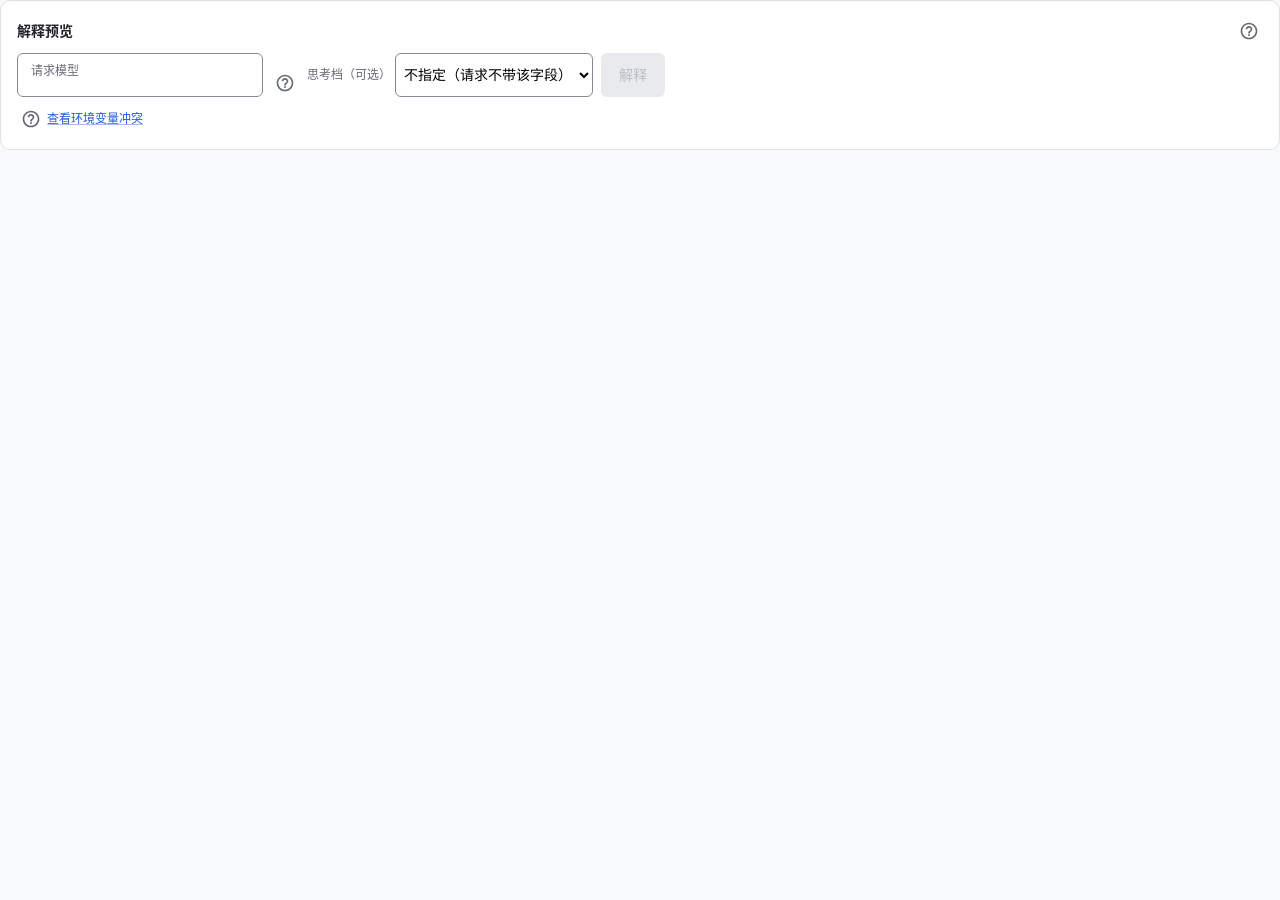
Test: RouteExplainPanel（UC-096） › 拒绝响应清楚区分未产出和未改写；端点缺席、空出站模型和空版本如实呈现
Type "missing-entry" into the field labelled "请求模型" at (140, 75), box [17, 56, 263, 94]
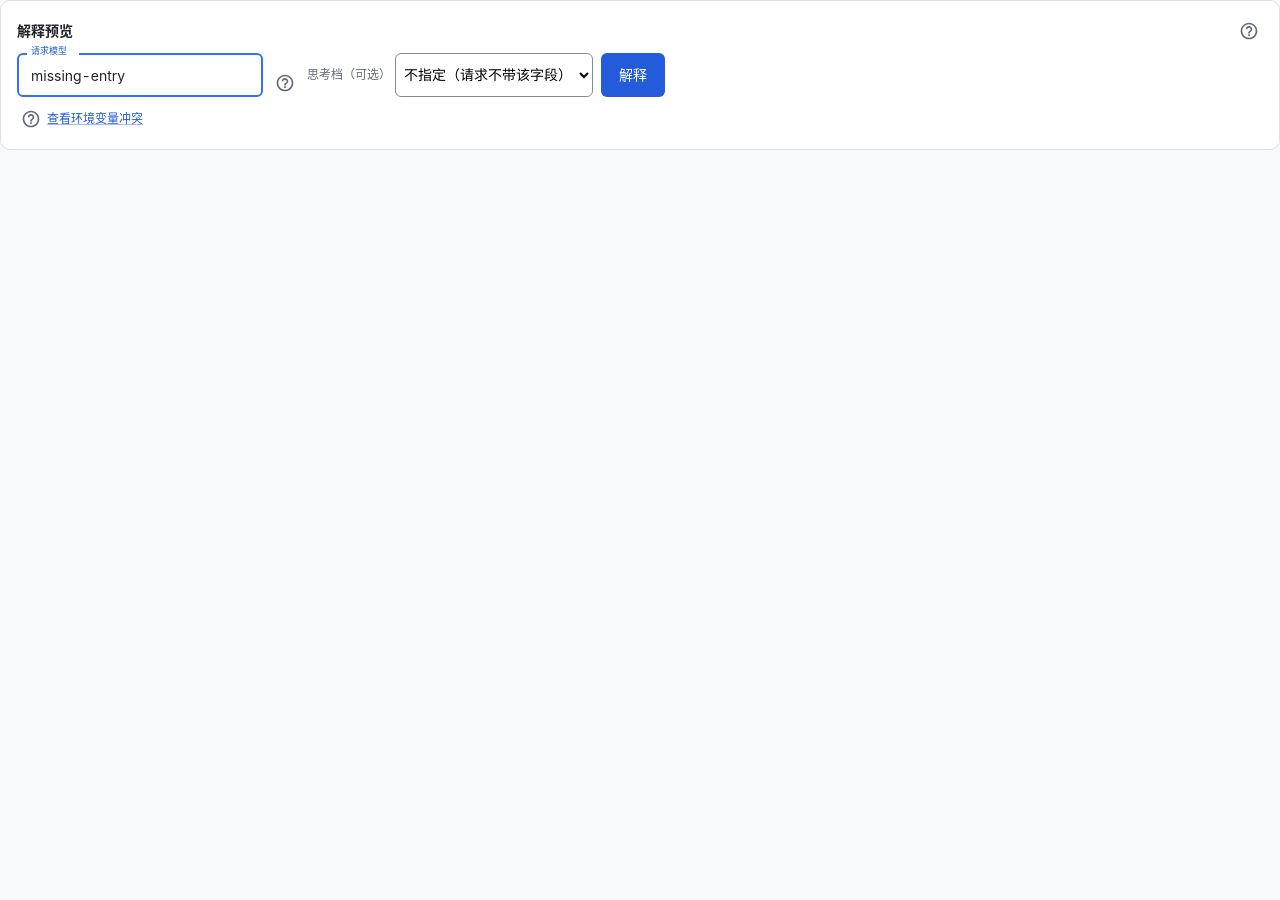
Click the button "解释" at (633, 75), box [601, 53, 665, 97]
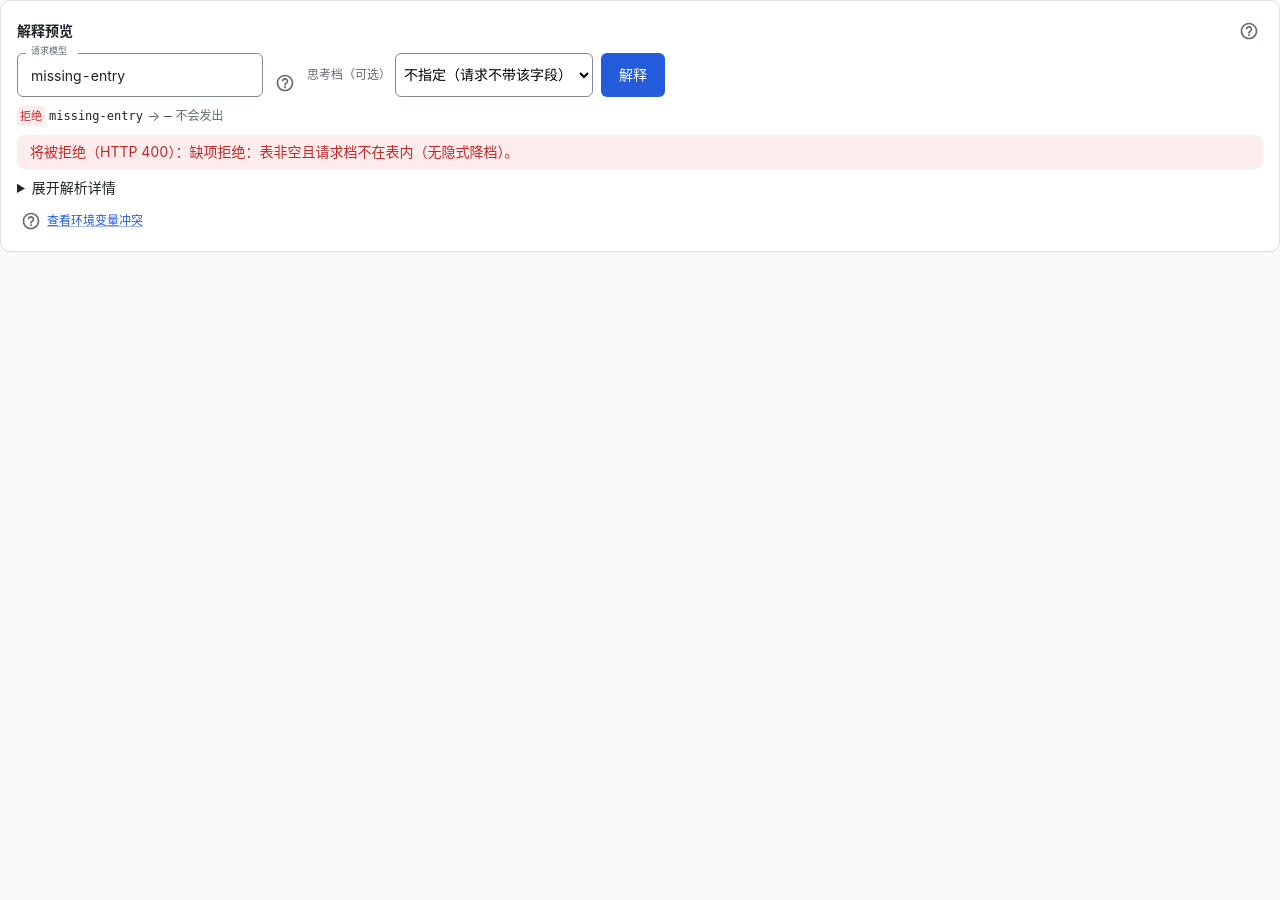
Expected: the text "将被拒绝（HTTP 400）：缺项拒绝：表非空且请求档不在表内（无隐式降档）。" is shown, [30, 143, 518, 160]
Expected: the text "—" is shown 2 times
Expected: the heading "展开解析详情" is shown
Click the heading "展开解析详情" at (74, 188), box [32, 179, 116, 196]
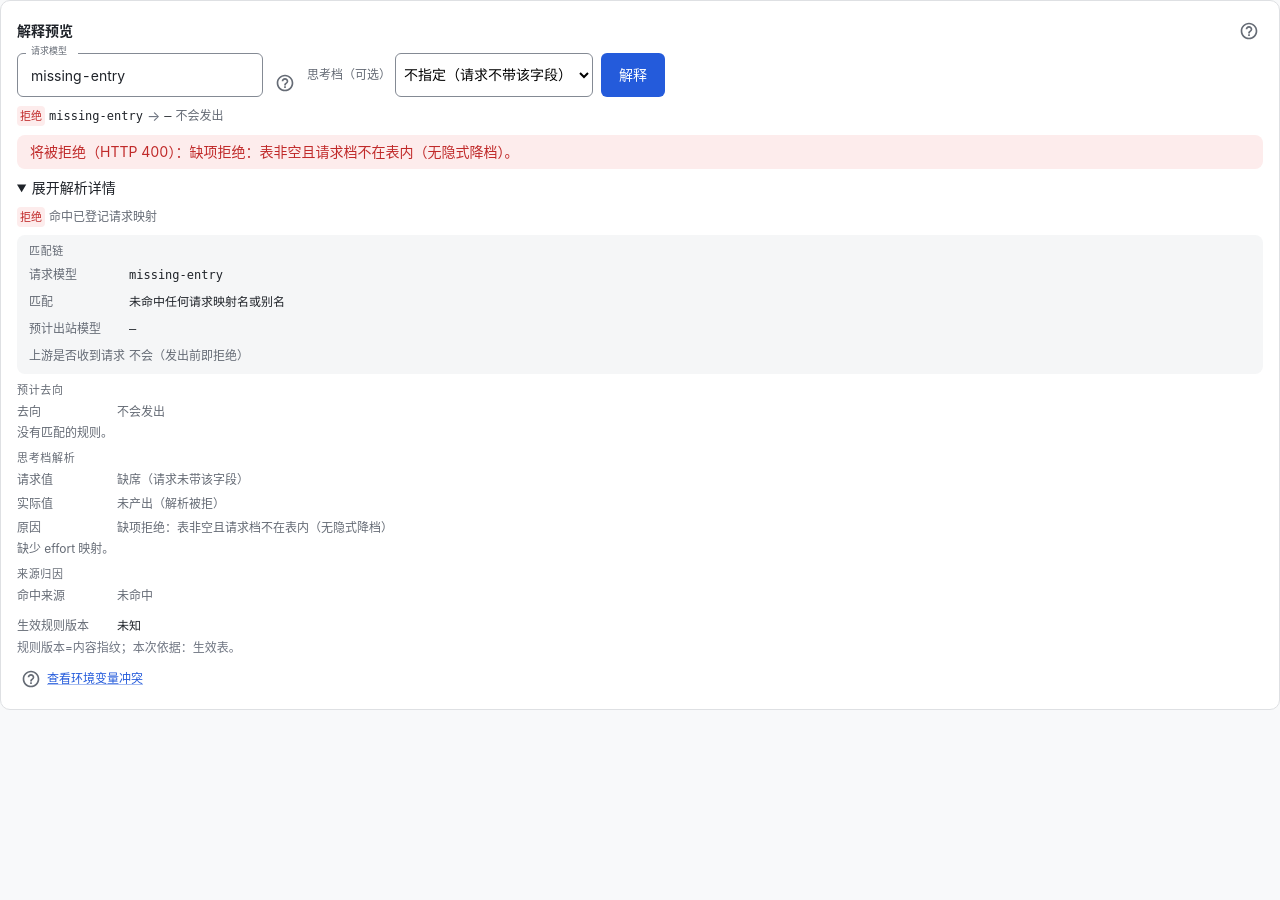
Expected: the text "未产出（解析被拒）" is shown, [117, 496, 225, 511]
Expected: the text "缺席（请求未带该字段）" is shown, [117, 472, 249, 487]
Expected: the text "未知" is shown, [117, 619, 141, 633]
